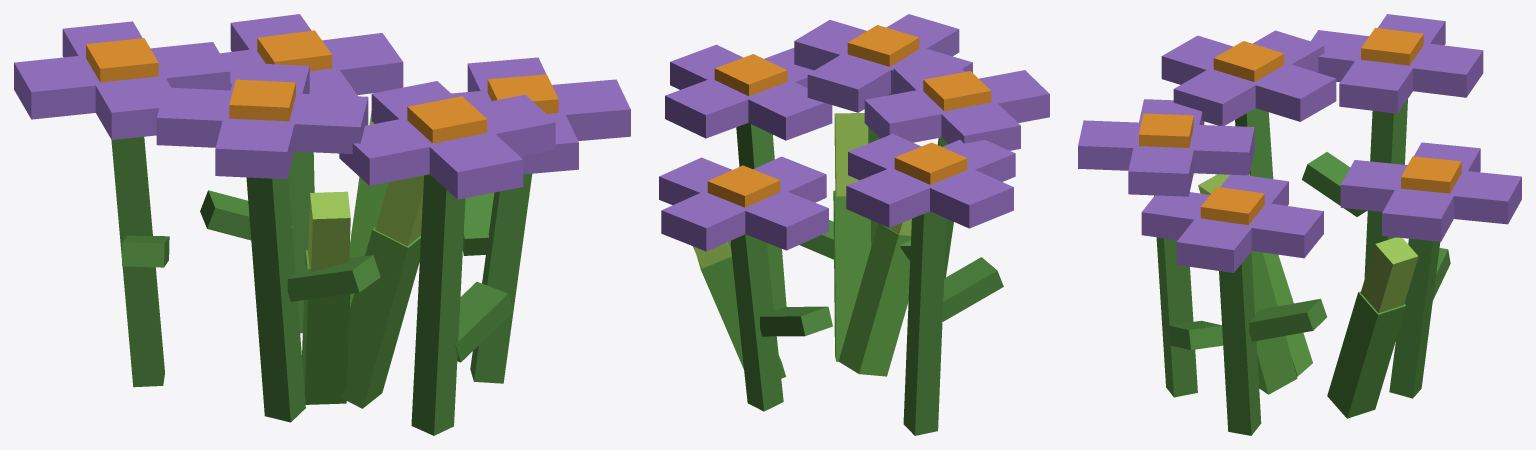
The model's file is B06_flowers_violet.obj.
The picture shows the model from 3 angles, left to right: view 1: azimuth 30°, elevation 25°; view 2: azimuth 150°, elevation 25°; view 3: azimuth 270°, elevation 25°; orthographic projection. The views are drawn at different scales.
Visible parts, largest first — view 1: B06_flowers_violet; view 2: B06_flowers_violet; view 3: B06_flowers_violet.
Part boxes in pixels (<box>): B06_flowers_violet: <box>14,14,630,435</box>; B06_flowers_violet: <box>659,14,1049,435</box>; B06_flowers_violet: <box>1078,14,1521,435</box>.
Size of the model in its own units: 0.9457 by 0.6258 by 0.8782.
